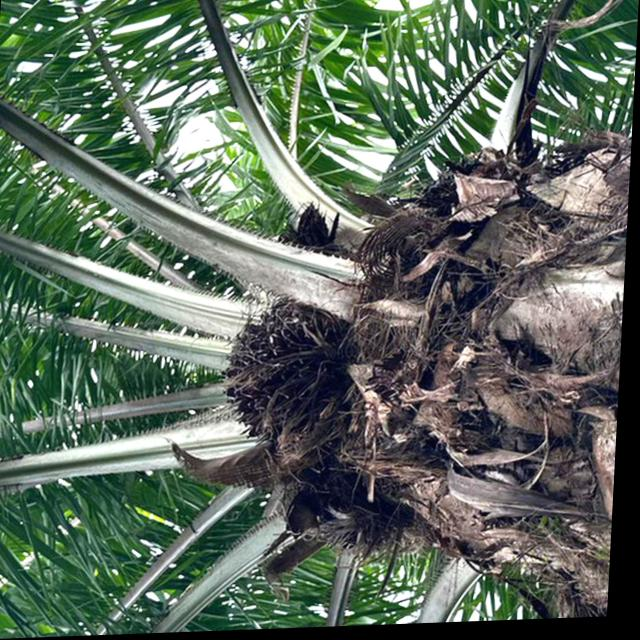almost: (220, 286, 350, 459)
